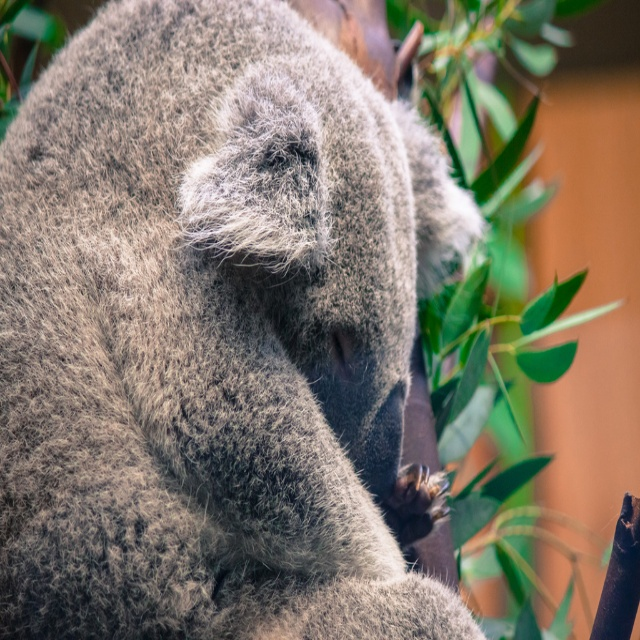Koala: (0, 0, 490, 639)
